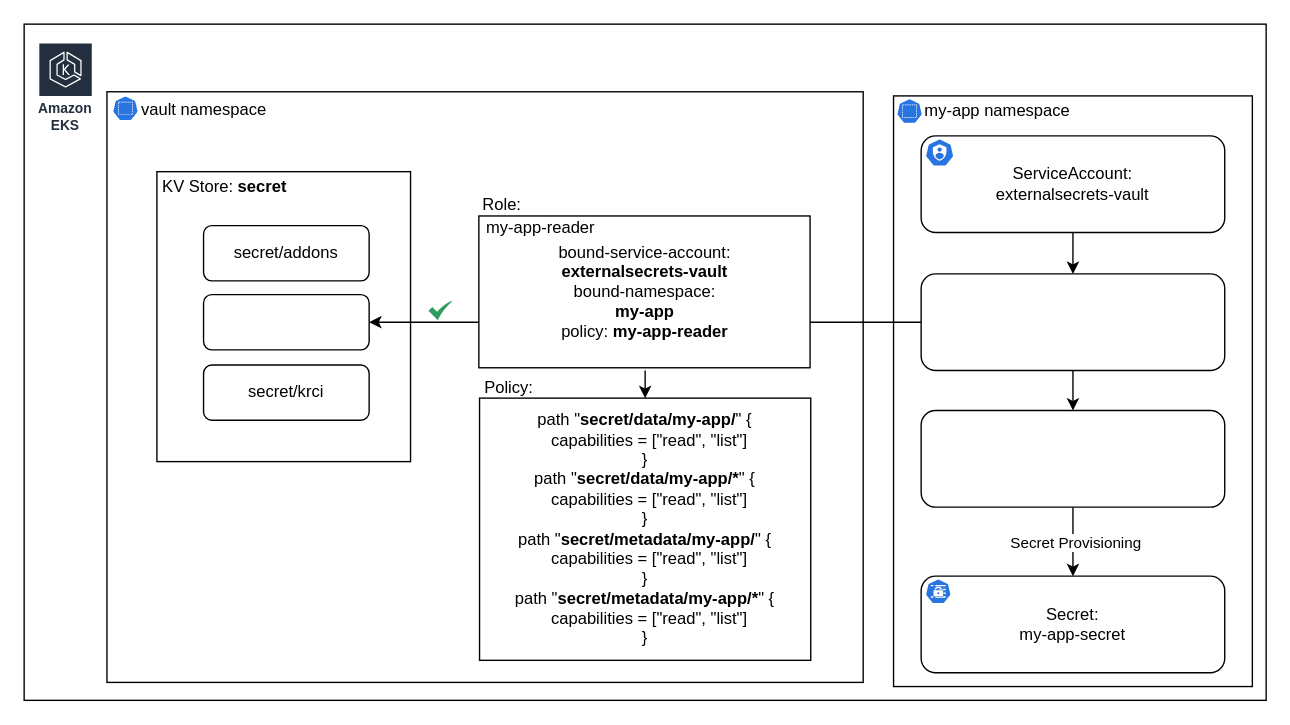
Some shapes in this 1290 by 725 pixel diagram are drawn without their labels. Each missing label, with the box of its shape:
ExternalSecret: vault-my-app key: secret/data/my-app: (920, 409, 1225, 507)
secret/my-app: (202, 293, 369, 350)
SecretStore: vault-backend: (920, 273, 1225, 371)
